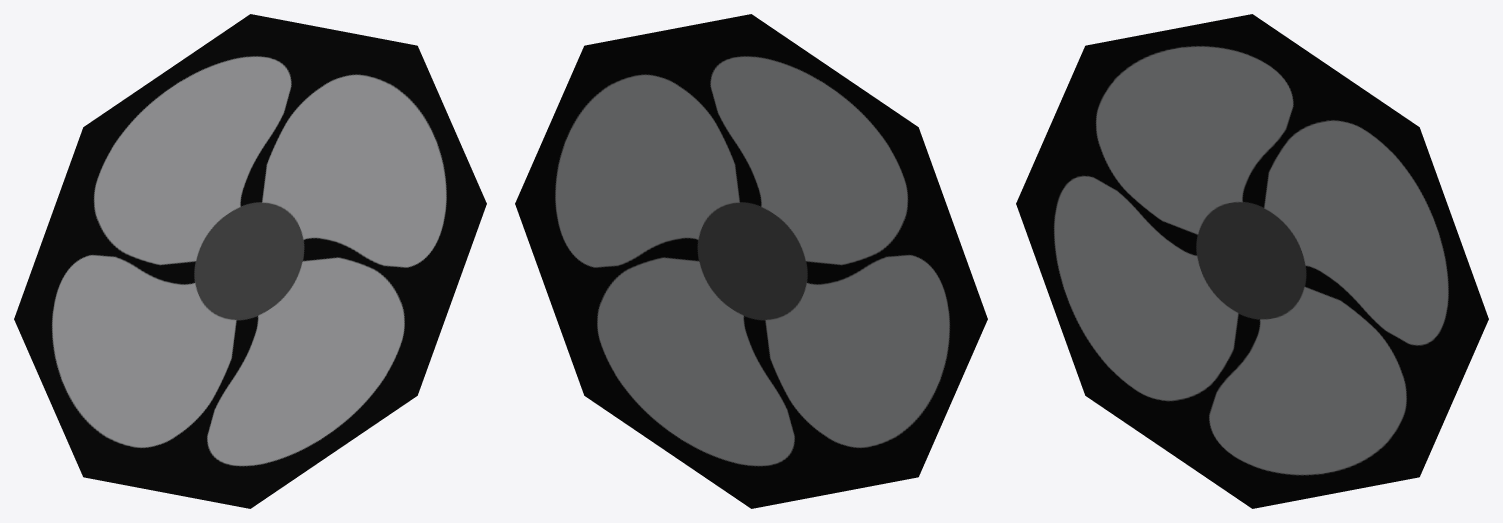
File: Itr_Outdoormachine_Fan_01.FBX
3 views of the same model, side by side, from view 1: azimuth 30°, elevation 25°; view 2: azimuth 150°, elevation 25°; view 3: azimuth 330°, elevation 25° (orthographic).
Visible parts, largest first — view 1: Itr_Outdoormachine_Fan_01; view 2: Itr_Outdoormachine_Fan_01; view 3: Itr_Outdoormachine_Fan_01.
Part boxes in pixels (x1=…): Itr_Outdoormachine_Fan_01: x1=14, y1=14, x2=486, y2=508; Itr_Outdoormachine_Fan_01: x1=515, y1=14, x2=987, y2=508; Itr_Outdoormachine_Fan_01: x1=1016, y1=14, x2=1488, y2=508.
Size of the model in its own units: 31.91 by 31.91 by 3.55e-15.
